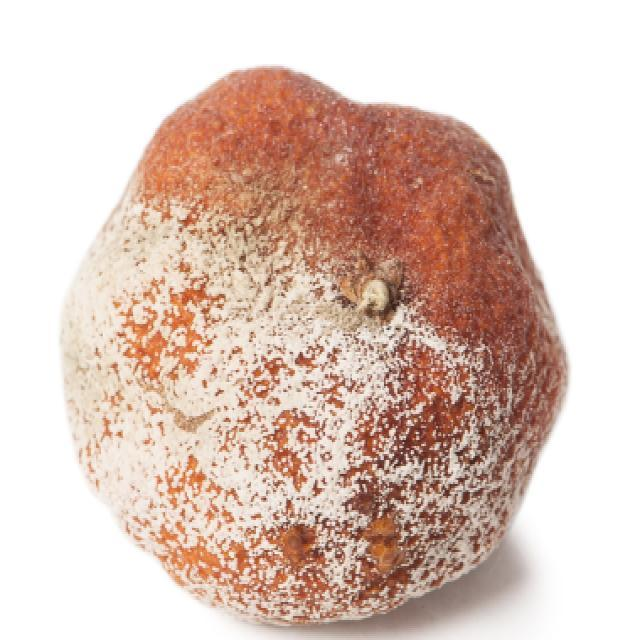sangat-busuk: (62, 68, 565, 622)
